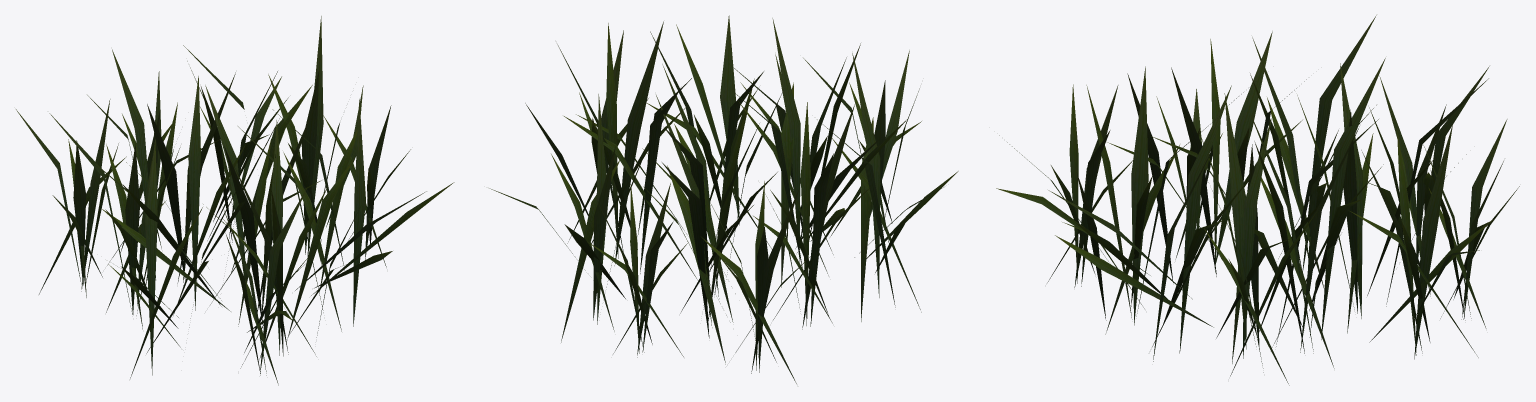
Rendered from grass2.fbx.
3 renders of one model, left to right at view 1: azimuth 30°, elevation 25°; view 2: azimuth 150°, elevation 25°; view 3: azimuth 270°, elevation 25°, orthographic. The views are drawn at different scales.
Parts seen in each view (by area): view 1: SM_020_Grass_02a; view 2: SM_020_Grass_02a; view 3: SM_020_Grass_02a.
Boxes of the visible parts, bbox=[...] form: SM_020_Grass_02a: bbox=[16, 16, 454, 385]; SM_020_Grass_02a: bbox=[489, 15, 958, 383]; SM_020_Grass_02a: bbox=[996, 15, 1519, 385].
Bounding box in the file's own units: 129 × 92.65 × 155.
